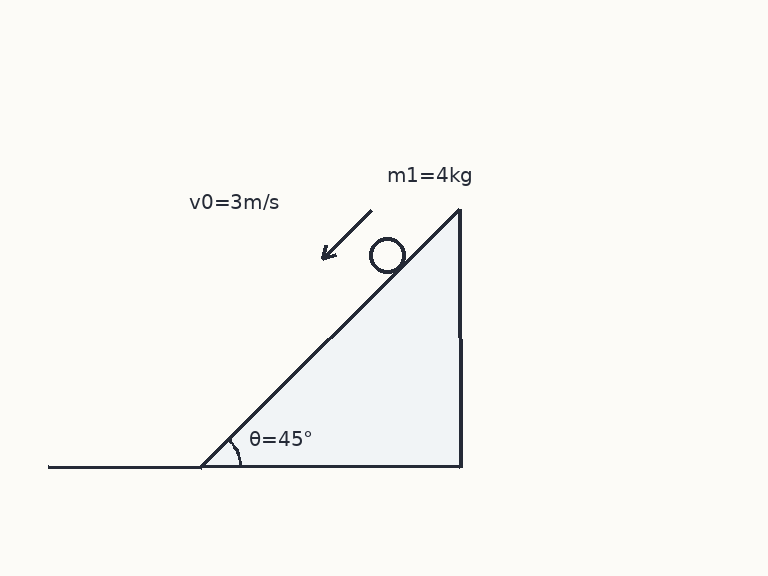ball: (367, 235, 407, 275)
ramp: (198, 206, 461, 469)
